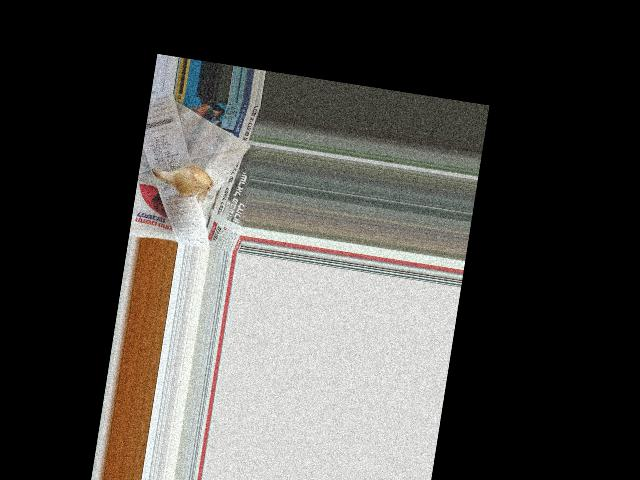onion: (165, 162, 209, 195)
